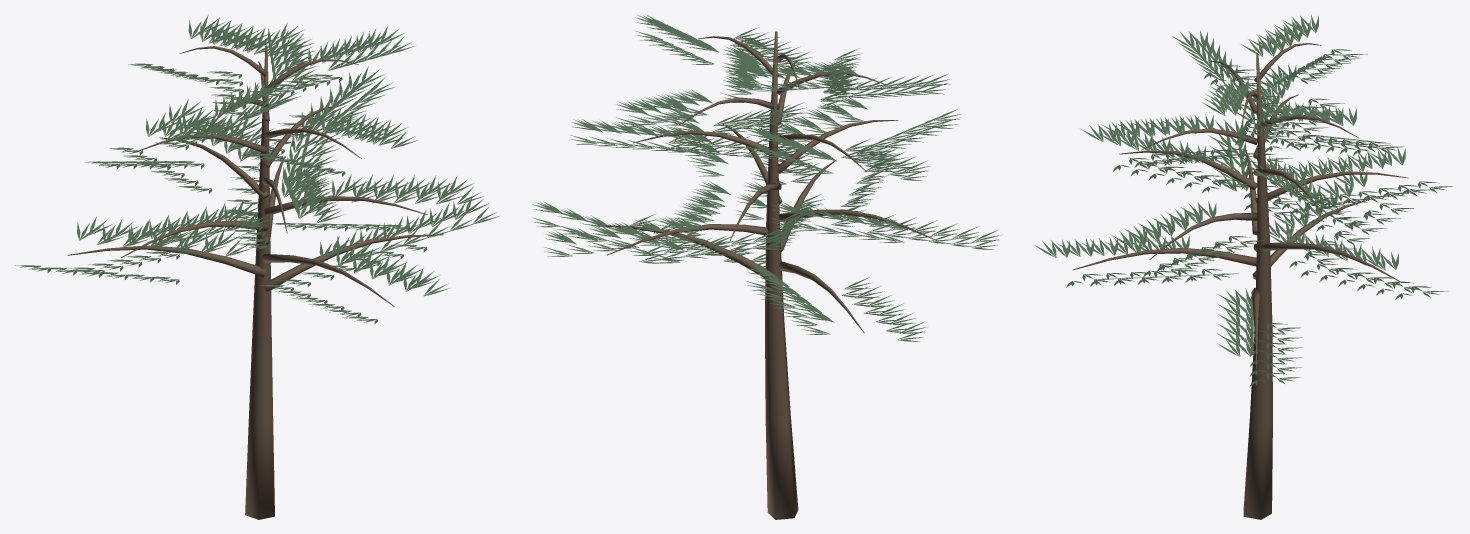
File: pine-lod2.glb
The picture shows the model from 3 angles, left to right: view 1: azimuth 30°, elevation 25°; view 2: azimuth 150°, elevation 25°; view 3: azimuth 270°, elevation 25°; orthographic projection. The views are drawn at different scales.
Parts seen in each view (by area): view 1: three dimensional leaves, rooted trunk and branch hierarchy; view 2: three dimensional leaves, rooted trunk and branch hierarchy; view 3: three dimensional leaves, rooted trunk and branch hierarchy.
Boxes of the visible parts, x1,y1,x2,y2 form: three dimensional leaves: [15, 14, 499, 323]; rooted trunk and branch hierarchy: [67, 45, 443, 519]; three dimensional leaves: [532, 15, 1002, 341]; rooted trunk and branch hierarchy: [598, 31, 938, 519]; three dimensional leaves: [1033, 15, 1452, 386]; rooted trunk and branch hierarchy: [1073, 43, 1407, 519].
Bounding box in the file's own units: 7.34 × 7.48 × 6.21.
